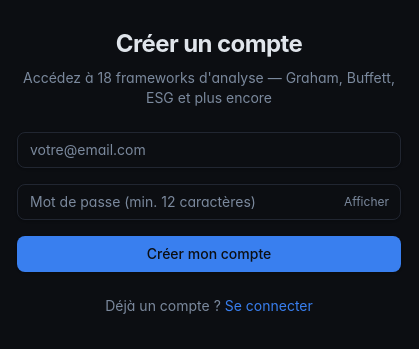
RegisterPage › affiche une erreur si les champs sont vides
Click the button with test id "submit-button" at (209, 254), box [17, 236, 401, 272]
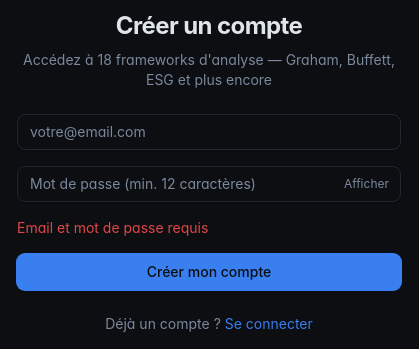
Expected: the message "Email et mot de passe requis" is shown, [17, 218, 208, 236]
